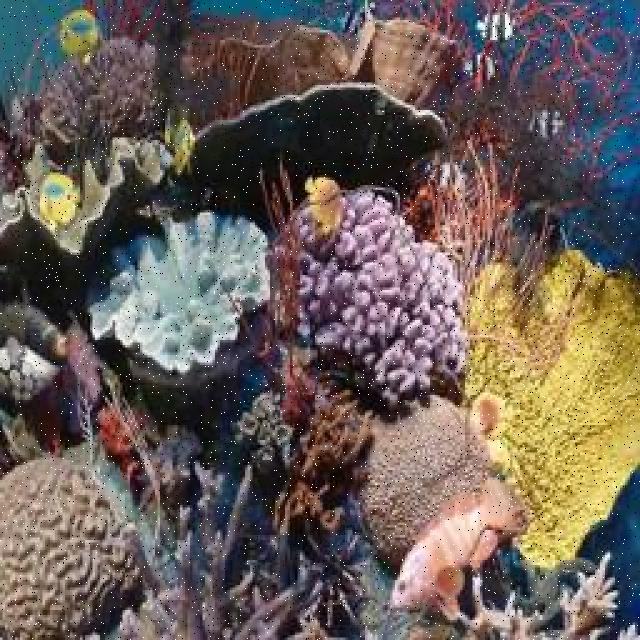fish: (388, 479, 529, 607), (0, 302, 68, 404), (303, 177, 346, 227), (57, 10, 101, 56), (40, 174, 78, 221), (338, 5, 386, 40), (476, 11, 518, 43), (170, 121, 195, 173), (461, 53, 500, 85), (529, 105, 564, 139)
reefs: (465, 251, 638, 569), (271, 185, 474, 404), (83, 209, 272, 371), (0, 457, 143, 638), (354, 391, 494, 565)
